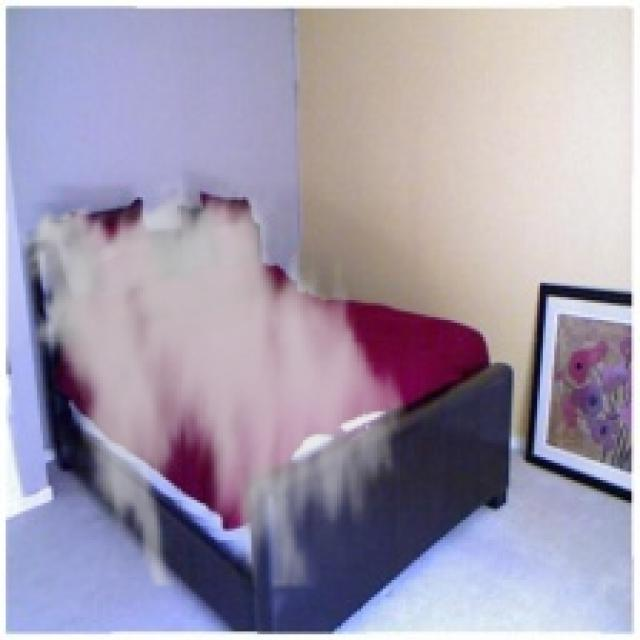smoke: (6, 174, 417, 589)
